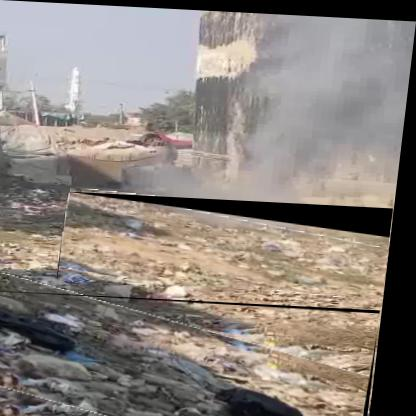Garbage: (1, 290, 390, 416), (64, 192, 399, 293)
